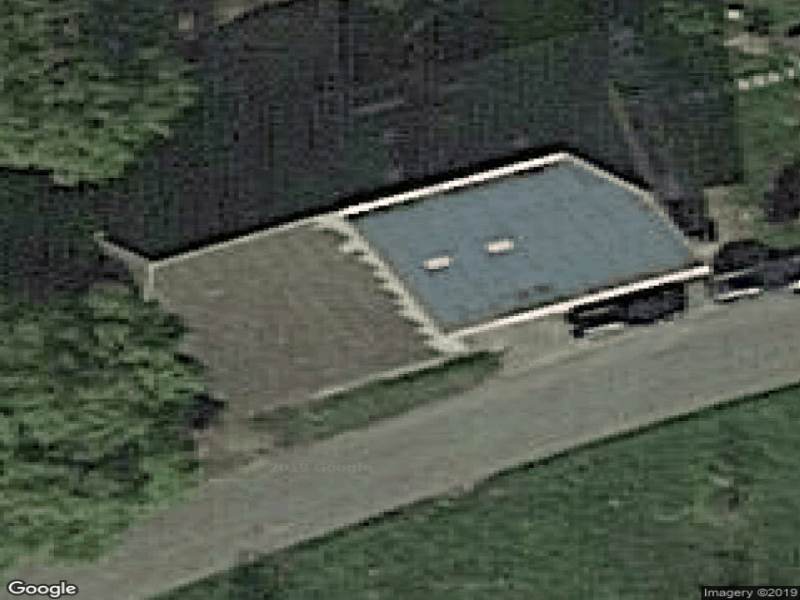pv: (349, 160, 703, 335)
